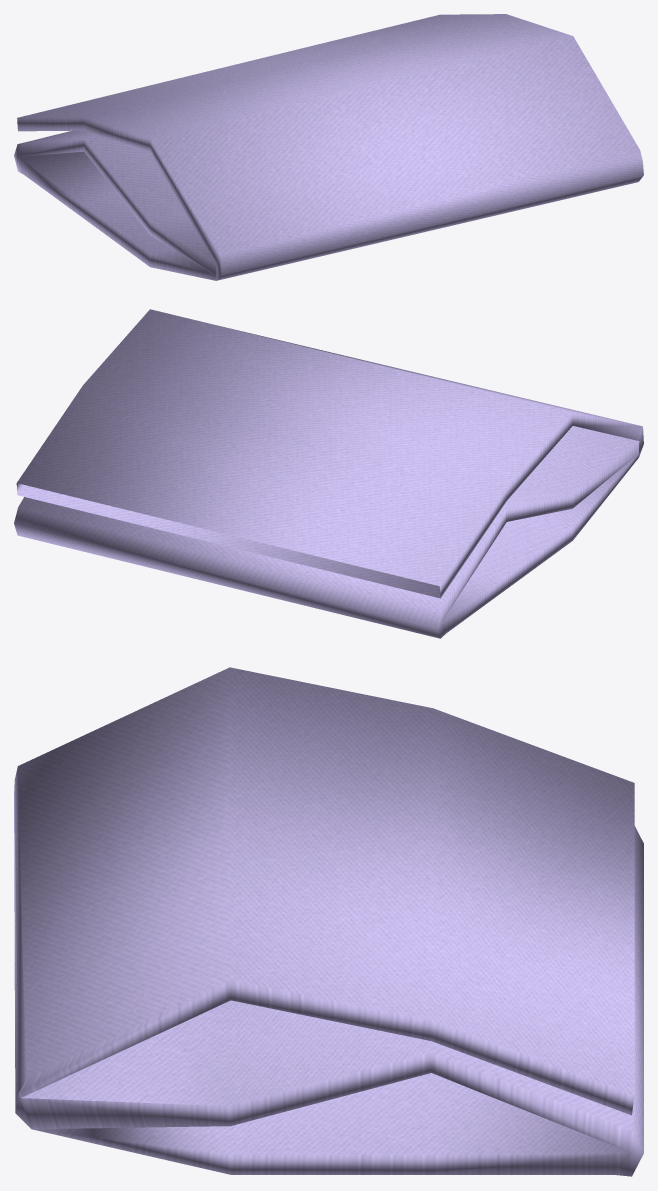
File: Blanket_F.FBX
3 renders of one model, top to bottom at view 1: azimuth 30°, elevation 25°; view 2: azimuth 150°, elevation 25°; view 3: azimuth 270°, elevation 25°, orthographic. The views are drawn at different scales.
Visible parts, largest first — view 1: Blanket; view 2: Blanket; view 3: Blanket.
Part boxes in pixels (left/top/right/bottom): Blanket: left=14, top=14, right=643, bottom=280; Blanket: left=14, top=309, right=643, bottom=638; Blanket: left=14, top=667, right=643, bottom=1176.
Bounding box in the file's own units: 123 × 35.98 × 105.
